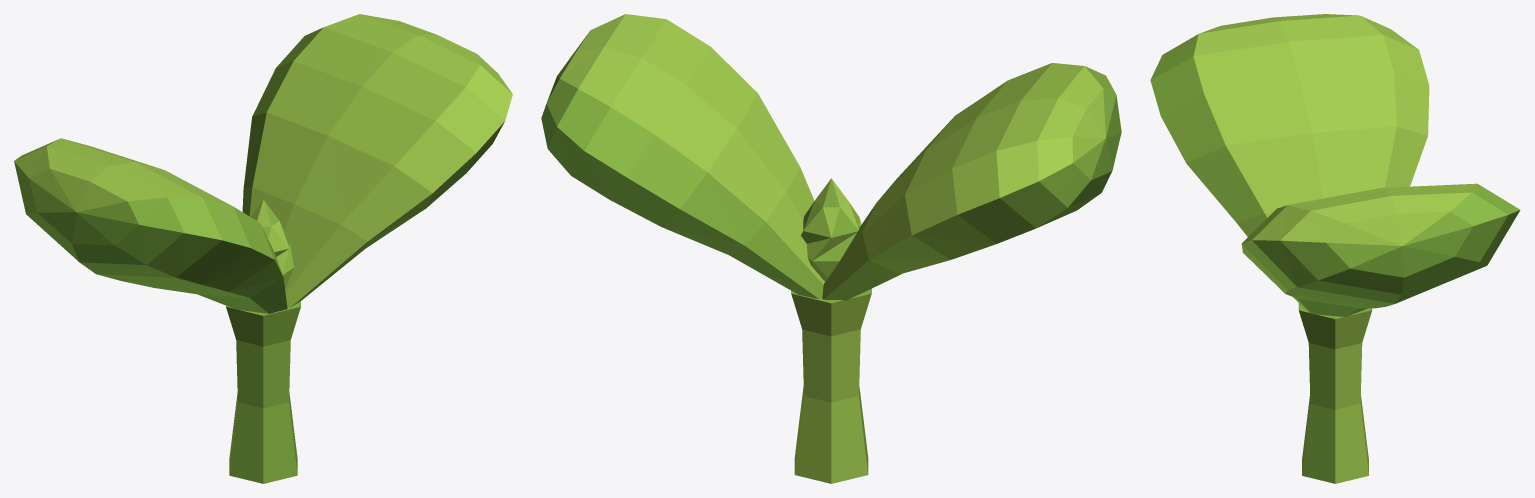
Rendered from FMS_Crop_Cabbage_S1.fbx.
3 views of the same model, side by side, from view 1: azimuth 30°, elevation 25°; view 2: azimuth 150°, elevation 25°; view 3: azimuth 270°, elevation 25° (orthographic). The views are drawn at different scales.
Visible parts, largest first — view 1: FMS_Crop_Cabbage_S1; view 2: FMS_Crop_Cabbage_S1; view 3: FMS_Crop_Cabbage_S1.
Boxes of the visible parts, left/top/right/bottom form: FMS_Crop_Cabbage_S1: left=14, top=14, right=512, bottom=483; FMS_Crop_Cabbage_S1: left=541, top=14, right=1121, bottom=483; FMS_Crop_Cabbage_S1: left=1150, top=14, right=1520, bottom=483.
Bounding box in the file's own units: 0.274 × 0.2052 × 0.1916.
